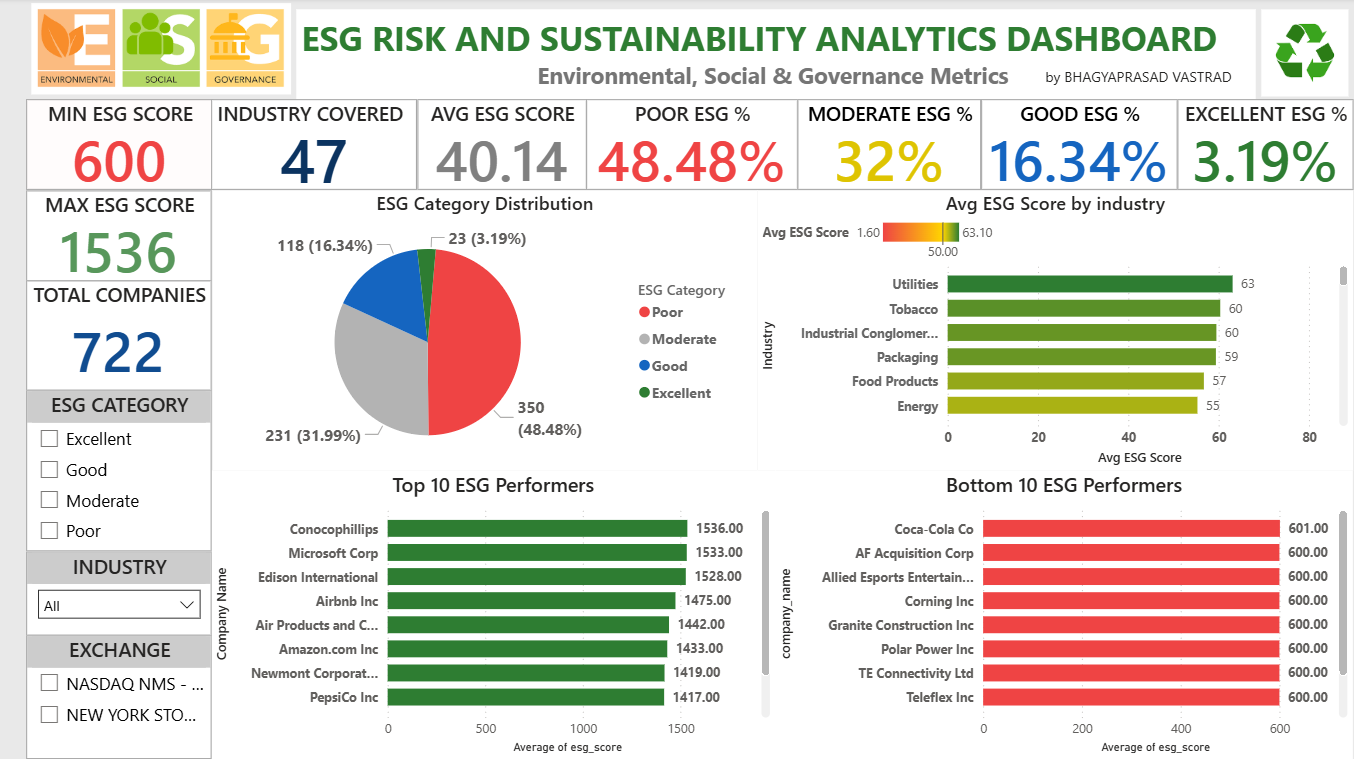

The page's visual inventory and layout, read from the dashboard file:
{"tool":"powerbi","page":{"name":"Page 1","canvas":[1280,720],"ordinal":0},"visuals":[{"type":"textbox","box":[280.1,10.6,907.7,85.1],"z":0},{"type":"card","title":"MIN ESG SCORE","fields":{"Values":["esg.Min ESG Score"]},"box":[24.7,96,176.5,85.7],"z":1000},{"type":"card","title":"MAX ESG SCORE","fields":{"Values":["esg.Max ESG Score"]},"box":[24.7,181.7,175.2,85.7],"z":2000},{"type":"card","title":"AVG ESG SCORE","fields":{"Values":["esg.Avg ESG Score"]},"box":[394.6,96,159.6,85.7],"z":3000},{"type":"card","title":"EXCELLENT ESG %","fields":{"Values":["esg.Excellent ESG %"]},"box":[1113.6,96,166.1,85.7],"z":4000},{"type":"card","title":"TOTAL COMPANIES","fields":{"Values":["esg.Total Companies"]},"box":[24.7,267.4,175.2,103.8],"z":5000},{"type":"card","title":"POOR ESG %","fields":{"Values":["esg.Poor ESG %"]},"box":[554.2,96,199.9,85.7],"z":6000},{"type":"pieChart","title":"ESG Category Distribution","fields":{"Category":["esg.esg_category"],"Y":["Count(esg.company_name)"],"Series":["esg.esg_category"]},"box":[201.2,181.7,515.3,264.8],"z":7000},{"type":"barChart","fields":{"Category":["esg.industry"],"Y":["esg.Avg ESG Score"]},"box":[716.5,181.7,563.3,264.8],"z":8000},{"type":"clusteredBarChart","title":"Top 10 ESG Performers","fields":{"Category":["esg.company_name"],"Y":["Avg(esg.esg_score)"]},"box":[199.9,446.5,533.4,272.6],"z":9000},{"type":"barChart","title":"Bottom 10 ESG Performers","fields":{"Category":["esg.company_name"],"Y":["Avg(esg.esg_score)"]},"box":[733.3,446.5,546.4,272.6],"z":10000},{"type":"card","title":"INDUSTRY COVERED","fields":{"Values":["esg.Industries covered"]},"box":[199.9,96,194.7,85.7],"z":11000},{"type":"slicer","title":"ESG CATEGORY","fields":{"Values":["esg.esg_category"]},"box":[24.7,371.2,175.2,151.9],"z":12000},{"type":"slicer","title":"INDUSTRY","fields":{"Values":["esg.industry"]},"box":[24.7,523.1,175.2,79.2],"z":13000},{"type":"slicer","title":"EXCHANGE","fields":{"Values":["esg.exchange"]},"box":[24.7,602.2,175.2,116.8],"z":14000},{"type":"image","box":[1187.6,3.9,92.2,96],"z":15000},{"type":"image","box":[24.7,0,255.7,96],"z":16000},{"type":"textbox","box":[983.8,59.7,192.1,28.6],"z":17000},{"type":"card","title":"MODERATE ESG %","fields":{"Values":["esg.Moderate ESG %"]},"box":[754.1,96,173.9,85.7],"z":18000},{"type":"card","title":"GOOD ESG %","fields":{"Values":["esg.Good ESG %"]},"box":[928,96,185.6,85.7],"z":19000}]}

Visuals, with their boxes in screenshot pixels (x1, y1, x2, y2), scaled from the page's 1280x720 canvas onto the 1354x759 screenshot:
textbox: select_region(296, 11, 1256, 101)
"MIN ESG SCORE" card: select_region(26, 101, 213, 192)
"MAX ESG SCORE" card: select_region(26, 192, 211, 282)
"AVG ESG SCORE" card: select_region(417, 101, 586, 192)
"EXCELLENT ESG %" card: select_region(1178, 101, 1353, 192)
"TOTAL COMPANIES" card: select_region(26, 282, 211, 391)
"POOR ESG %" card: select_region(586, 101, 798, 192)
"ESG Category Distribution" pieChart: select_region(213, 192, 758, 471)
barChart - esg.industry x esg.Avg ESG Score: select_region(758, 192, 1353, 471)
"Top 10 ESG Performers" clusteredBarChart: select_region(211, 471, 776, 758)
"Bottom 10 ESG Performers" barChart: select_region(776, 471, 1353, 758)
"INDUSTRY COVERED" card: select_region(211, 101, 417, 192)
"ESG CATEGORY" slicer: select_region(26, 391, 211, 551)
"INDUSTRY" slicer: select_region(26, 551, 211, 635)
"EXCHANGE" slicer: select_region(26, 635, 211, 758)
image: select_region(1256, 4, 1353, 105)
image: select_region(26, 0, 297, 101)
textbox: select_region(1041, 63, 1244, 93)
"MODERATE ESG %" card: select_region(798, 101, 982, 192)
"GOOD ESG %" card: select_region(982, 101, 1178, 192)
